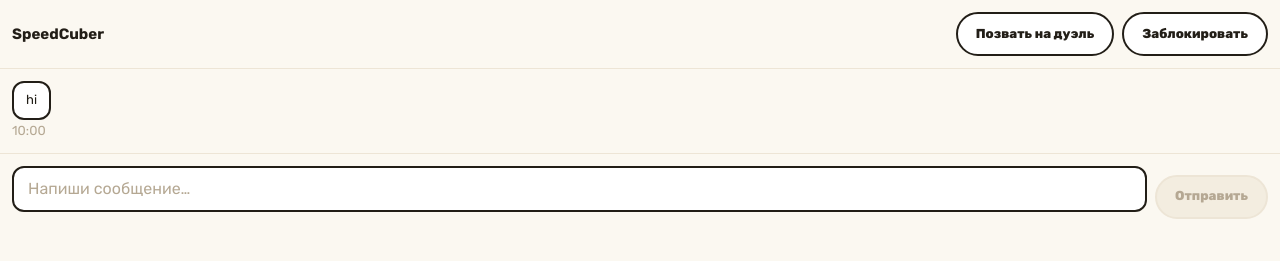
Test: ConversationView — композер › 429 с retry-after показывает секунды ожидания
Type "спам" into the text box labelled "сообщение" at (580, 189), box [12, 166, 1147, 212]
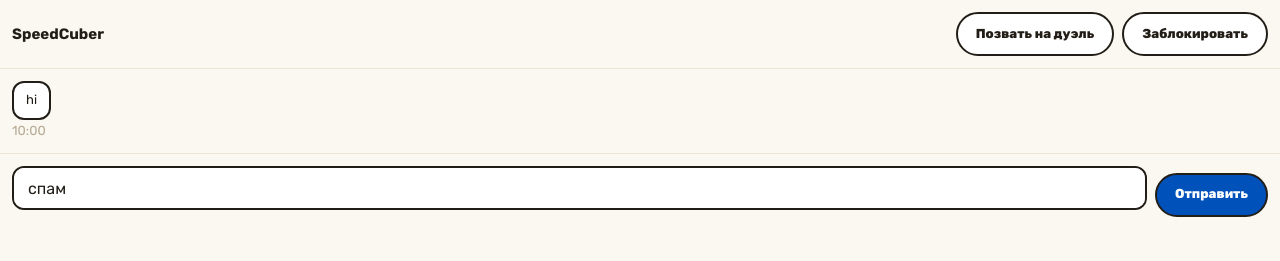
Press Enter in the text box named "сообщение", box [12, 166, 1147, 210]
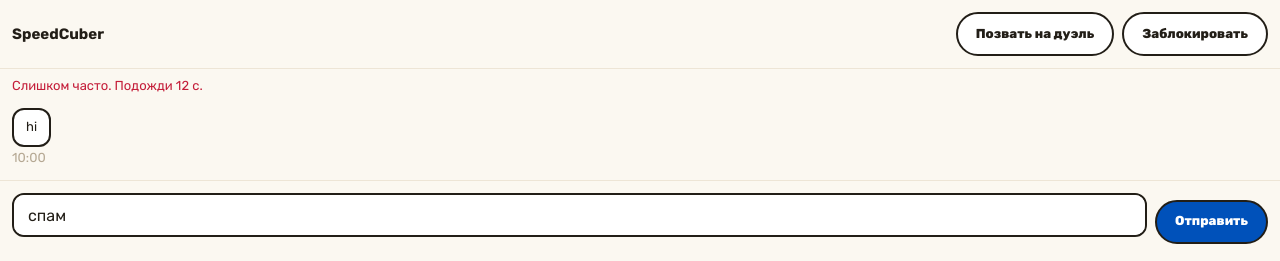
Expected: the text "Слишком часто. Подожди 12 с." is shown, [12, 78, 203, 93]
